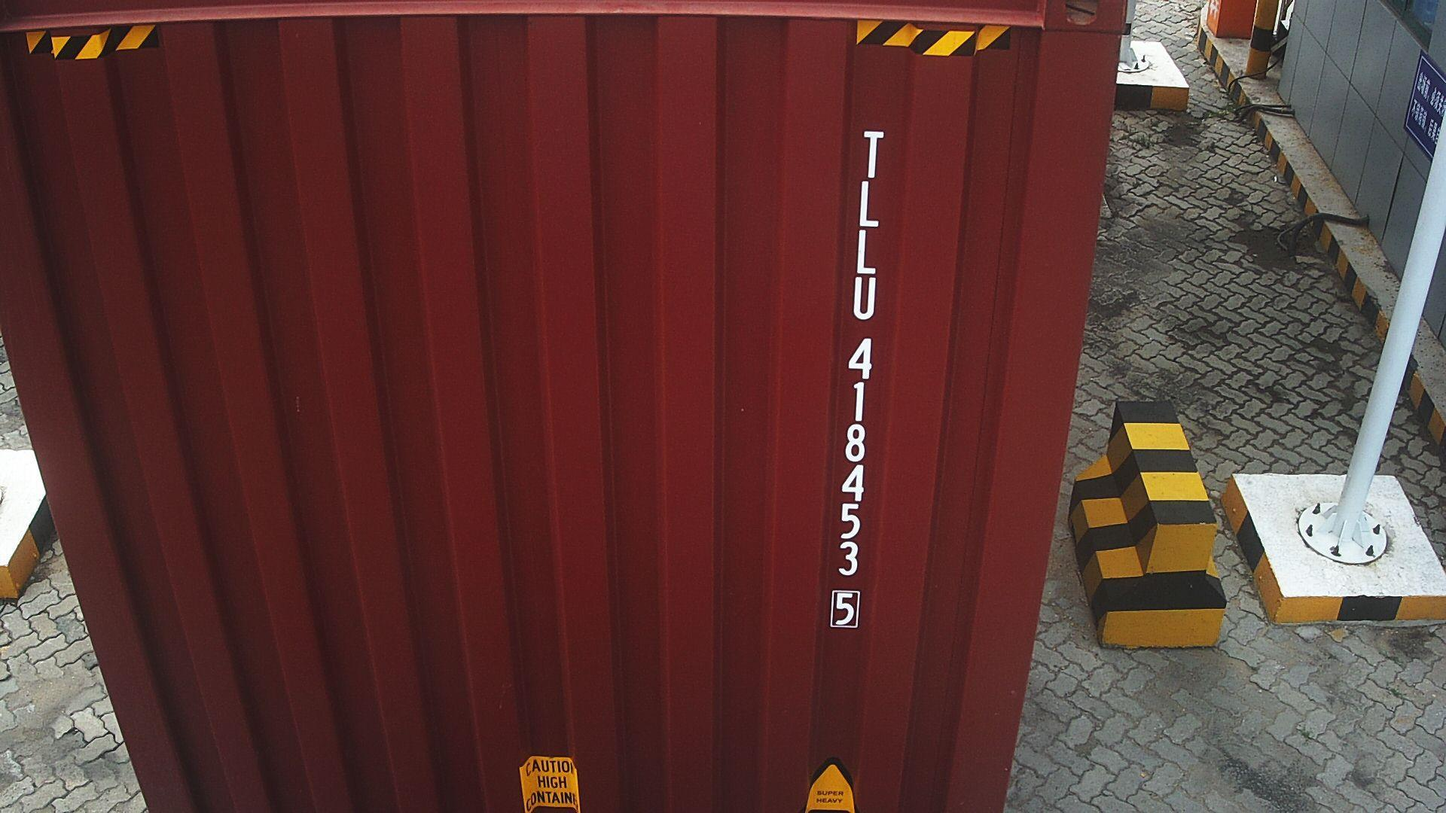container-numbers: (819, 126, 894, 634)
